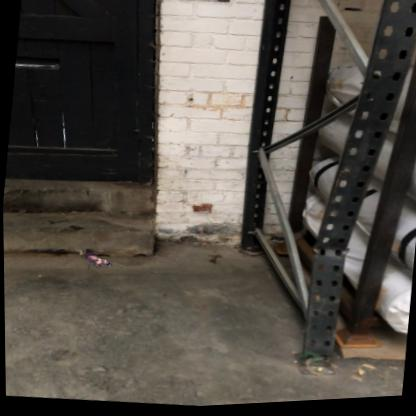vertical_damage: (301, 178, 378, 305)
